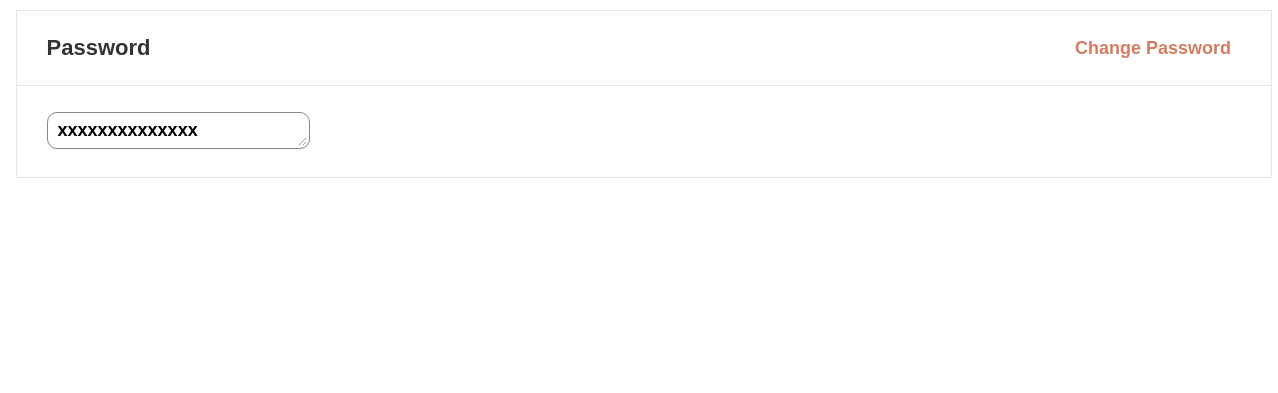
Test: confirm password › is marked invalid when it differs from the new password
Click the button "Change Password": (1152, 48) left=1072, top=37, right=1232, bottom=59
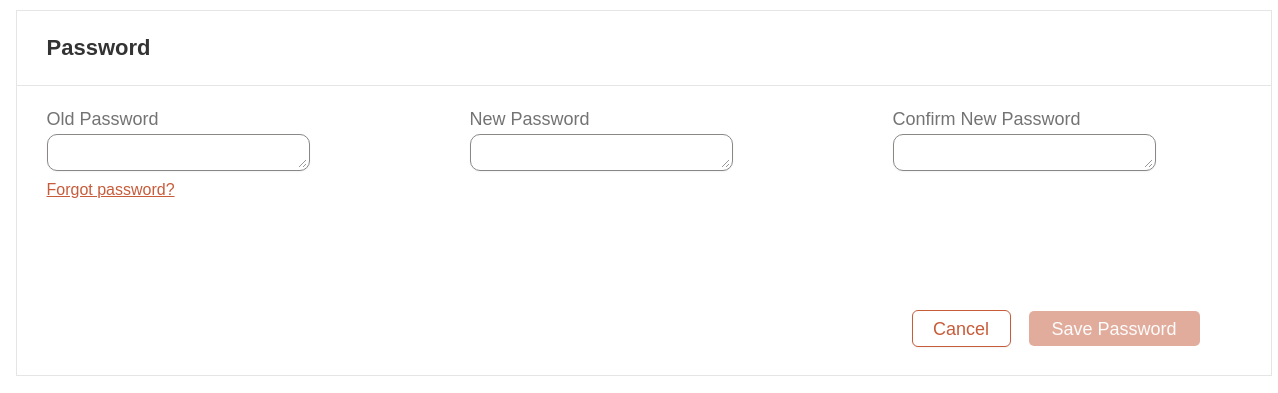
In the password field with test id "newPassword": (601, 152) left=470, top=134, right=732, bottom=171, type "long enough"
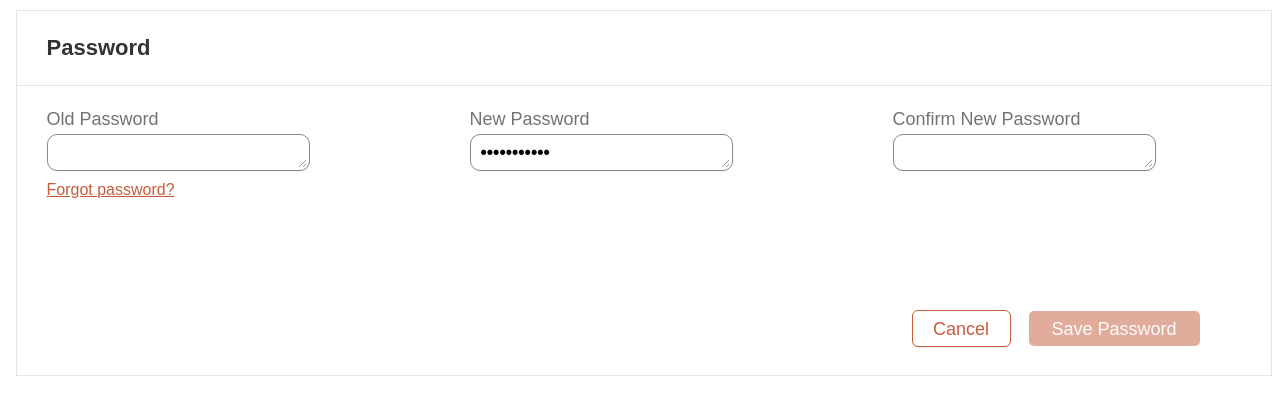
In the password field with test id "confirmPassword": (1024, 152) left=892, top=134, right=1156, bottom=171, type "long enougX"
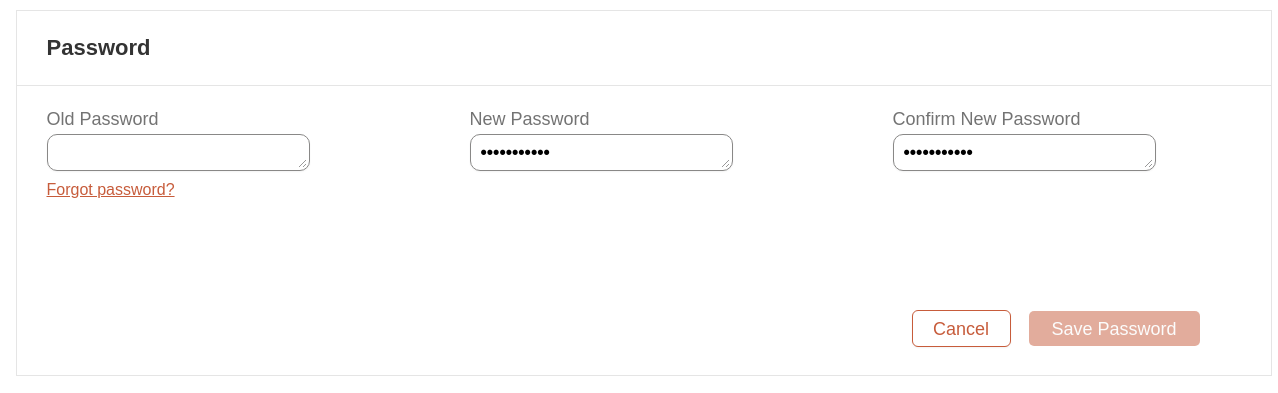
Leave the password field with test id "confirmPassword", box left=892, top=134, right=1156, bottom=171
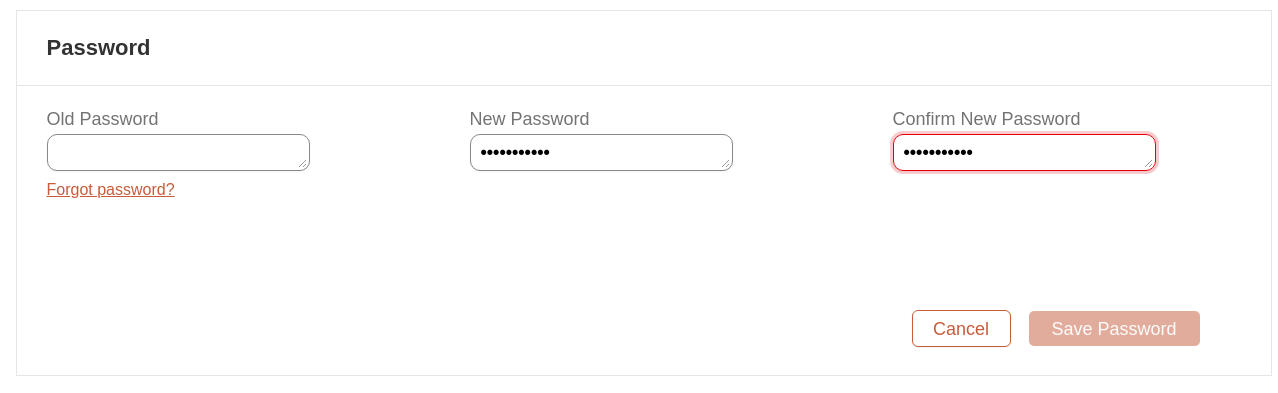
In the password field with test id "confirmPassword": (1024, 152) left=892, top=134, right=1156, bottom=171, type "long enough"
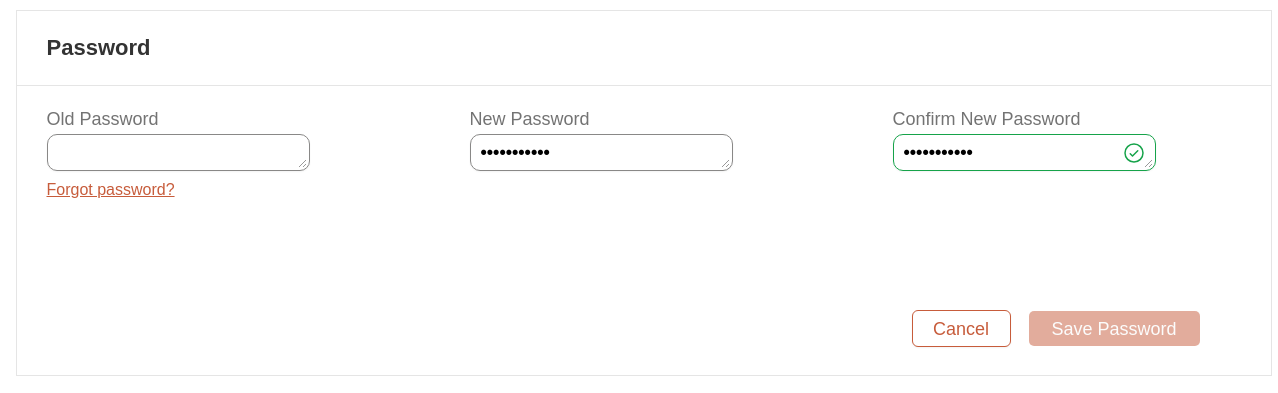
Now the password field with test id "confirmPassword" is not marked as invalid, box left=892, top=134, right=1156, bottom=171
